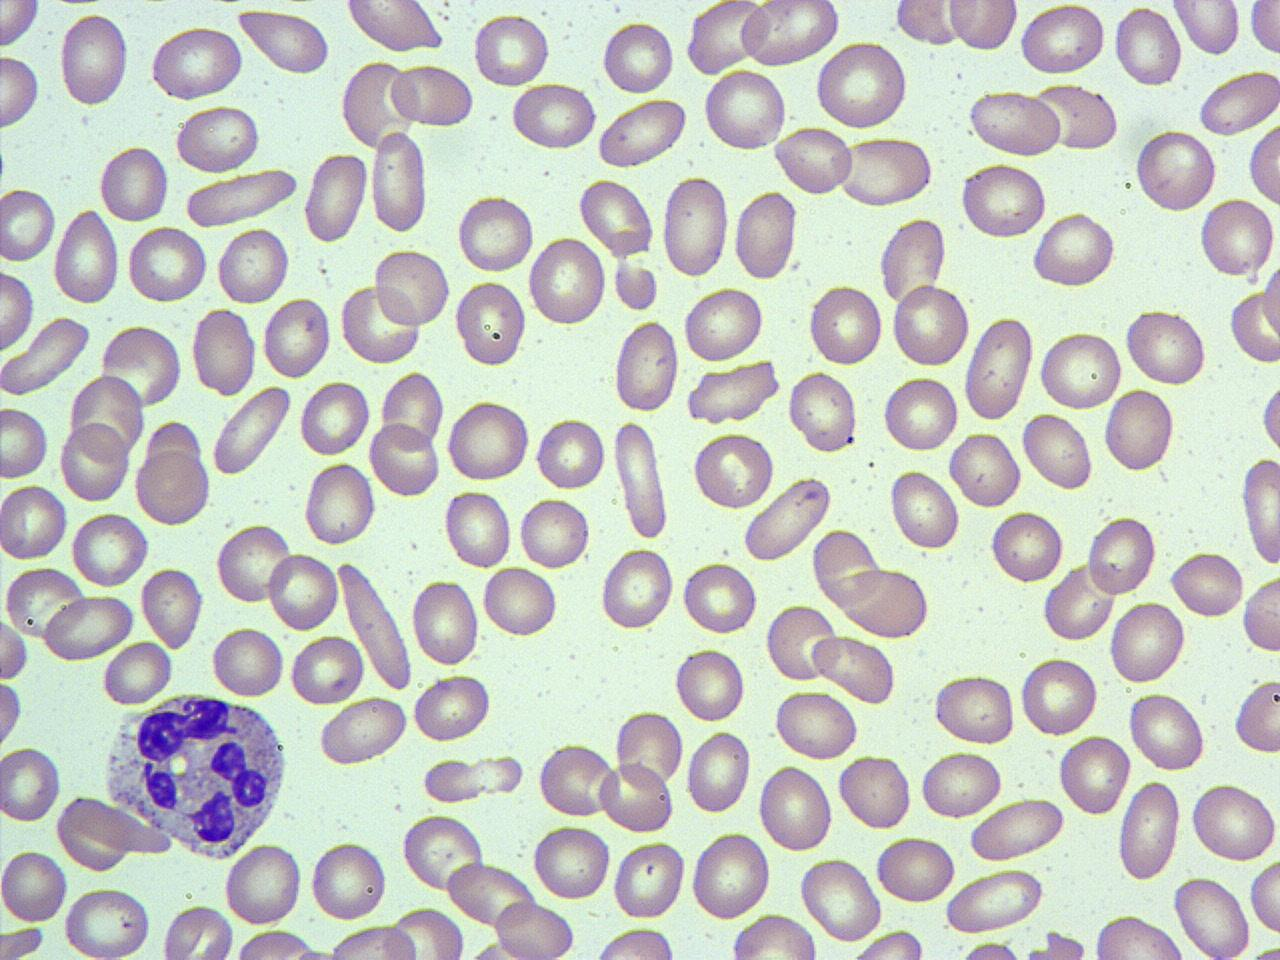RBC: (339, 558, 414, 688), (814, 39, 910, 131), (742, 475, 833, 565), (97, 321, 185, 411), (1, 312, 92, 399), (527, 232, 609, 328), (660, 172, 732, 280), (1188, 780, 1278, 866), (210, 383, 292, 477), (690, 828, 772, 922), (338, 58, 422, 148), (964, 315, 1036, 420), (959, 159, 1050, 242), (147, 24, 245, 101), (890, 279, 972, 371), (836, 133, 936, 208), (400, 810, 487, 896), (594, 94, 689, 172), (799, 854, 883, 942), (223, 838, 304, 929), (1107, 596, 1187, 688), (756, 760, 834, 854), (445, 397, 530, 483), (1038, 328, 1124, 413), (1134, 127, 1218, 214), (612, 417, 672, 538), (338, 280, 422, 366), (703, 67, 787, 153), (62, 882, 154, 960), (213, 520, 294, 608), (57, 10, 128, 110), (51, 206, 121, 307), (682, 282, 766, 366), (691, 429, 776, 512), (453, 276, 528, 370), (1172, 872, 1252, 960), (807, 280, 885, 370), (968, 794, 1068, 864), (236, 5, 334, 76), (738, 1, 844, 66), (307, 839, 390, 922), (1020, 653, 1100, 739), (371, 245, 450, 332), (1117, 778, 1183, 882), (840, 564, 930, 640), (1057, 730, 1133, 820), (471, 8, 554, 90), (530, 820, 612, 903), (598, 545, 676, 632), (42, 591, 136, 663), (302, 458, 377, 548), (184, 168, 300, 226), (772, 687, 860, 763), (1103, 386, 1177, 476), (943, 868, 1047, 932), (318, 694, 409, 767), (126, 223, 208, 304), (1124, 306, 1206, 387), (456, 192, 536, 275), (1030, 211, 1114, 290), (612, 318, 680, 415), (510, 79, 600, 152), (966, 90, 1064, 157), (53, 793, 133, 875), (881, 373, 960, 456), (1198, 195, 1276, 279), (946, 428, 1024, 512), (70, 508, 149, 590), (836, 751, 914, 834), (611, 838, 688, 922), (878, 214, 948, 306), (410, 577, 480, 669), (174, 102, 262, 175), (1127, 690, 1205, 772), (302, 150, 370, 244), (215, 224, 291, 308), (191, 304, 258, 399), (810, 632, 896, 706), (932, 672, 1018, 746), (887, 466, 961, 552), (1018, 3, 1105, 76), (786, 368, 859, 455), (537, 740, 616, 820), (57, 419, 132, 503), (265, 549, 340, 633), (369, 129, 429, 233), (576, 177, 654, 257), (445, 858, 534, 928), (765, 600, 839, 684), (1021, 408, 1095, 492), (874, 832, 958, 906), (1034, 80, 1120, 152), (1086, 512, 1158, 598), (261, 294, 332, 381), (3, 564, 82, 642), (916, 750, 1004, 820), (990, 506, 1066, 587), (411, 670, 493, 745), (733, 188, 798, 282), (682, 559, 759, 638), (480, 564, 560, 640), (1196, 66, 1280, 138), (442, 486, 514, 570), (98, 141, 170, 225), (685, 726, 752, 816), (133, 447, 209, 526), (516, 493, 592, 572), (773, 125, 855, 198), (1113, 4, 1183, 89), (598, 758, 676, 834), (209, 624, 287, 700), (673, 645, 747, 725), (298, 378, 371, 459), (288, 632, 366, 707), (387, 63, 475, 129), (601, 19, 676, 96), (139, 565, 206, 651), (1041, 564, 1113, 644), (615, 708, 686, 789), (0, 481, 69, 564), (367, 420, 440, 498), (1, 845, 69, 927), (341, 0, 444, 54), (379, 369, 446, 452), (534, 415, 606, 492), (812, 532, 883, 608), (1168, 550, 1244, 620), (100, 638, 175, 707), (493, 898, 576, 960), (1, 743, 62, 824), (1238, 452, 1280, 568), (0, 184, 59, 265), (1090, 910, 1186, 958), (726, 912, 820, 959), (160, 902, 236, 960), (1169, 0, 1243, 59), (946, 0, 1020, 53), (0, 405, 50, 482), (1232, 676, 1280, 756), (891, 0, 968, 48), (326, 924, 420, 960), (0, 53, 42, 132), (1241, 570, 1279, 656), (588, 926, 680, 960), (419, 755, 485, 802), (0, 268, 36, 354), (231, 928, 322, 960), (1247, 854, 1279, 945), (1248, 119, 1280, 209), (846, 928, 928, 960), (1256, 257, 1280, 351), (0, 610, 29, 686), (0, 0, 42, 51), (1258, 371, 1280, 460), (0, 674, 25, 752), (1246, 1, 1280, 58), (0, 924, 48, 960)
WBC: (100, 690, 293, 862)
